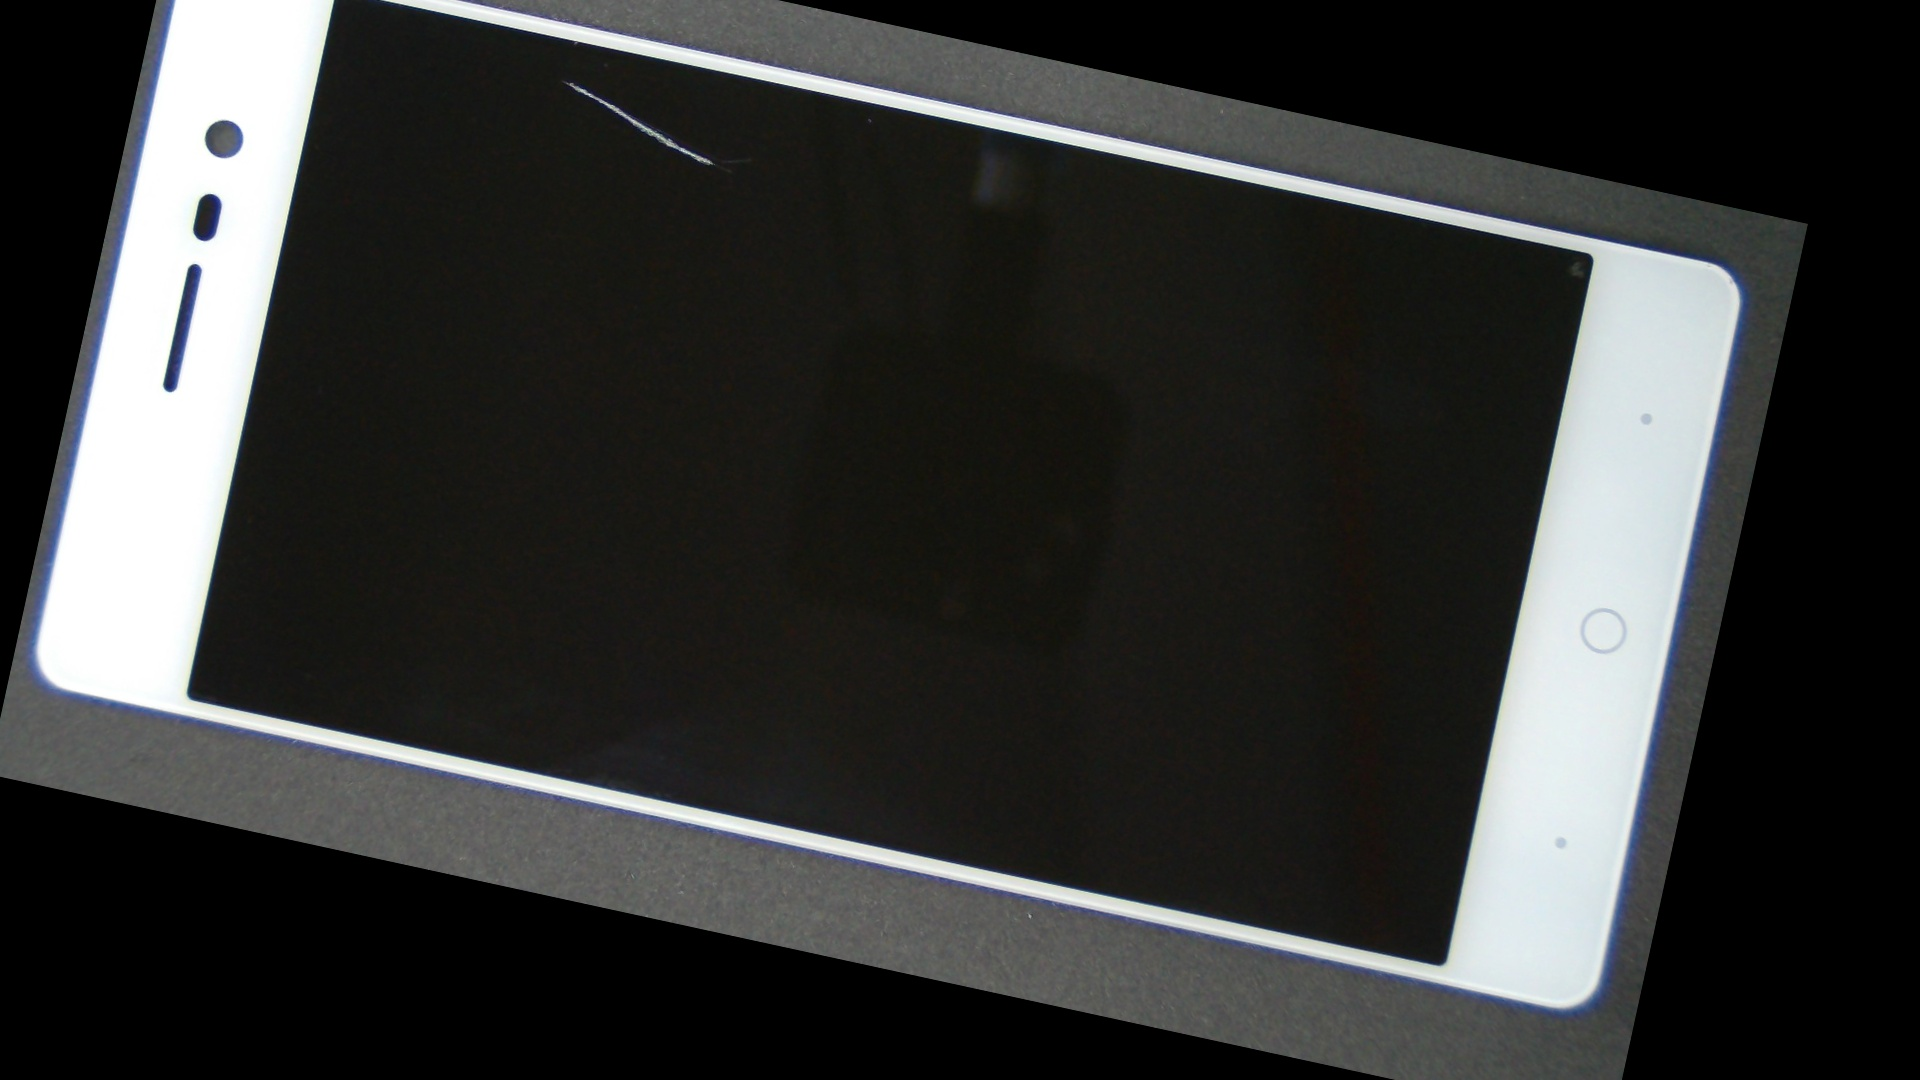oil: (347, 0, 779, 185)
